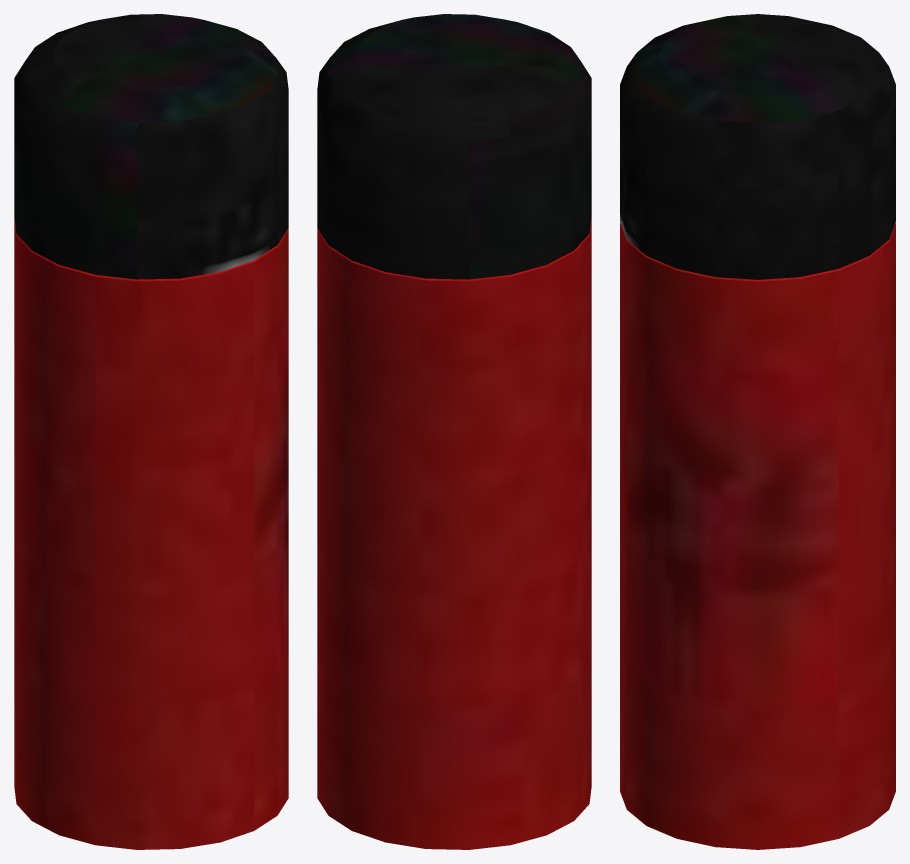
The model's file is thermos.fbx.
3 renders of one model, left to right at view 1: azimuth 30°, elevation 25°; view 2: azimuth 150°, elevation 25°; view 3: azimuth 270°, elevation 25°, orthographic.
Visible parts, largest first — view 1: Thermos, Thermos lid; view 2: Thermos, Thermos lid; view 3: Thermos, Thermos lid.
Part boxes in pixels (x1,y1,x2,y2): Thermos: (14, 218, 288, 849); Thermos lid: (14, 14, 288, 279); Thermos: (317, 218, 591, 849); Thermos lid: (317, 14, 591, 279); Thermos: (620, 223, 895, 849); Thermos lid: (620, 14, 895, 279).
Bounding box in the file's own units: 34 × 100 × 34.
